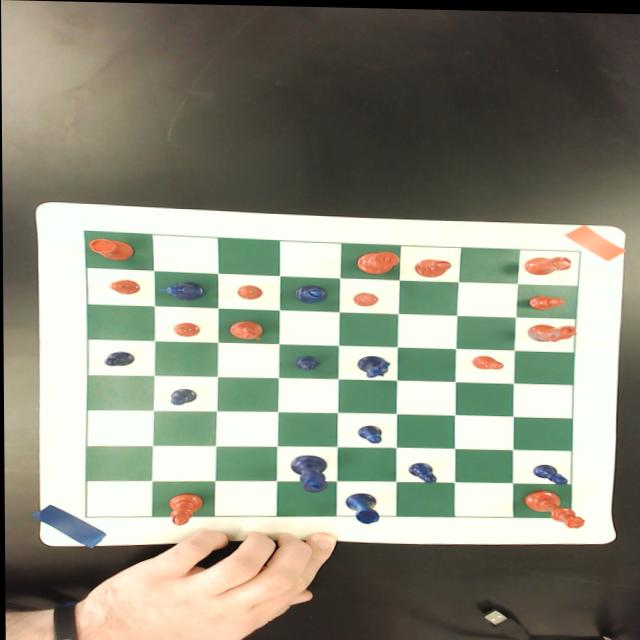B: (292, 282, 327, 304)
K: (286, 453, 327, 491)
N: (157, 279, 205, 300), (355, 353, 391, 378)
P: (530, 461, 566, 483), (407, 461, 437, 482), (355, 423, 382, 444), (167, 387, 196, 406), (103, 351, 133, 366), (294, 354, 319, 371)
R: (342, 491, 379, 524)
b: (165, 492, 202, 525), (412, 257, 451, 276)
cb: (83, 230, 580, 517)
k: (354, 249, 399, 273)
n: (527, 321, 577, 341), (228, 318, 264, 340)
p: (526, 293, 564, 308), (108, 279, 142, 294), (470, 353, 504, 367), (236, 284, 264, 299), (172, 321, 199, 336), (350, 291, 378, 305)
q: (522, 487, 584, 527)
r: (85, 238, 136, 261), (524, 253, 572, 274)
